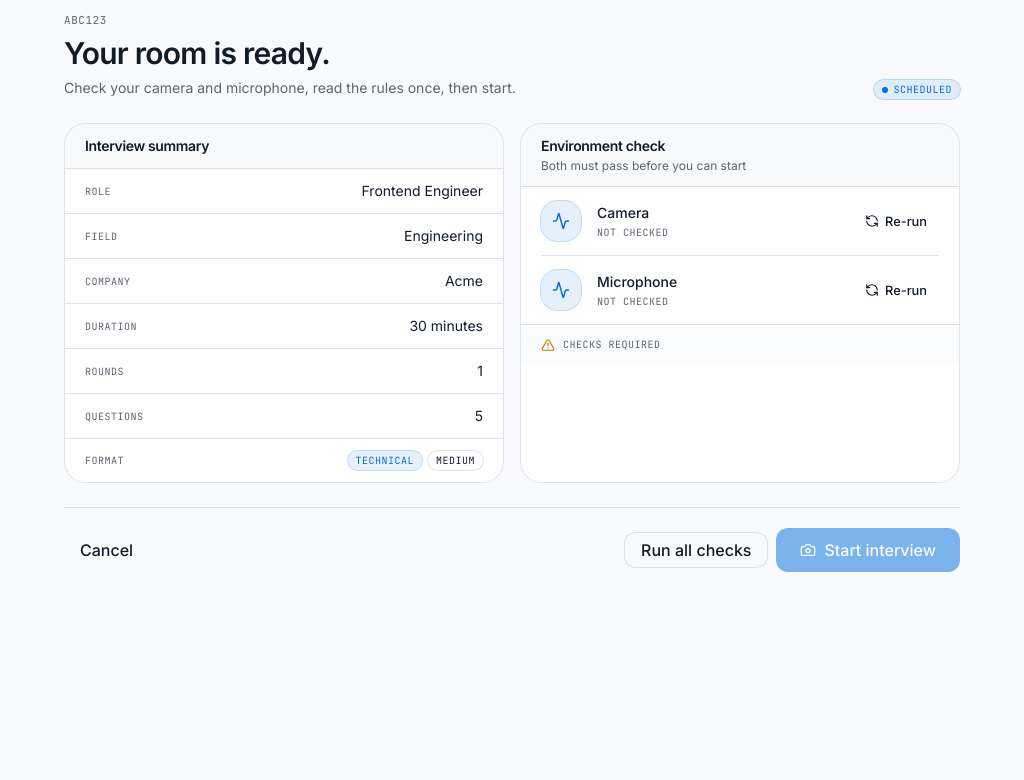
Interview Lobby › unlocks the start button once both checks pass
The image size is (1024, 780).
Click the button "Run all checks" at (696, 550), box [624,532,768,568]
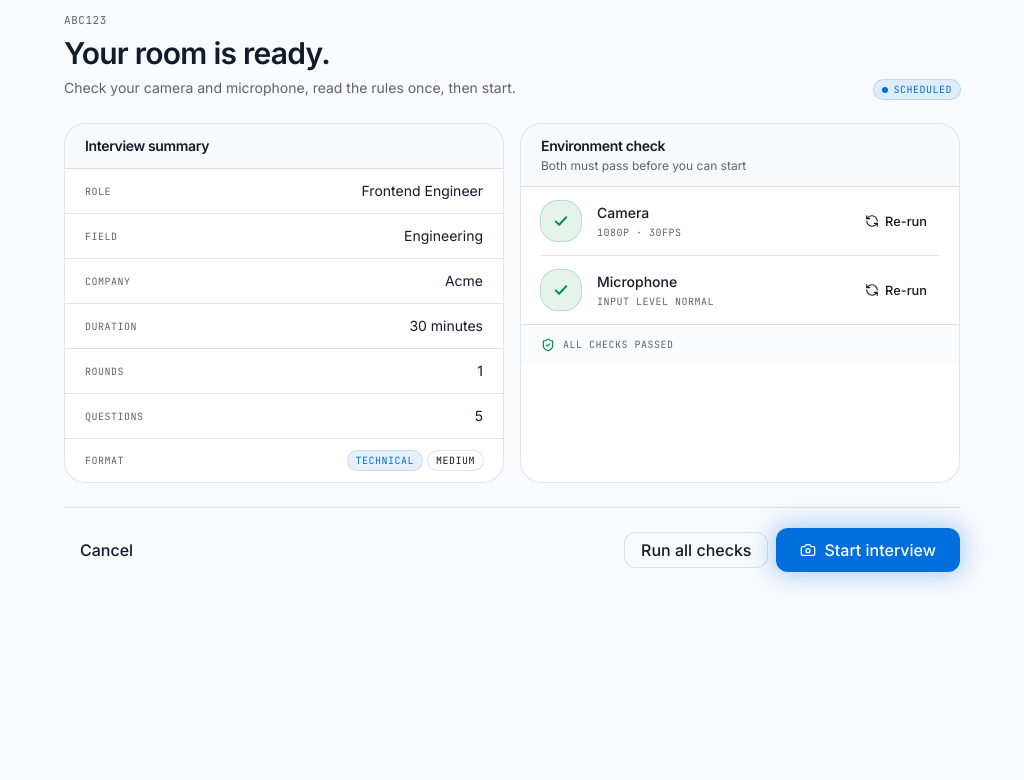
expect the button "Start interview" is enabled: met, box [776,528,960,572]
expect the text "all checks passed" is shown: met, box [541,338,674,352]
